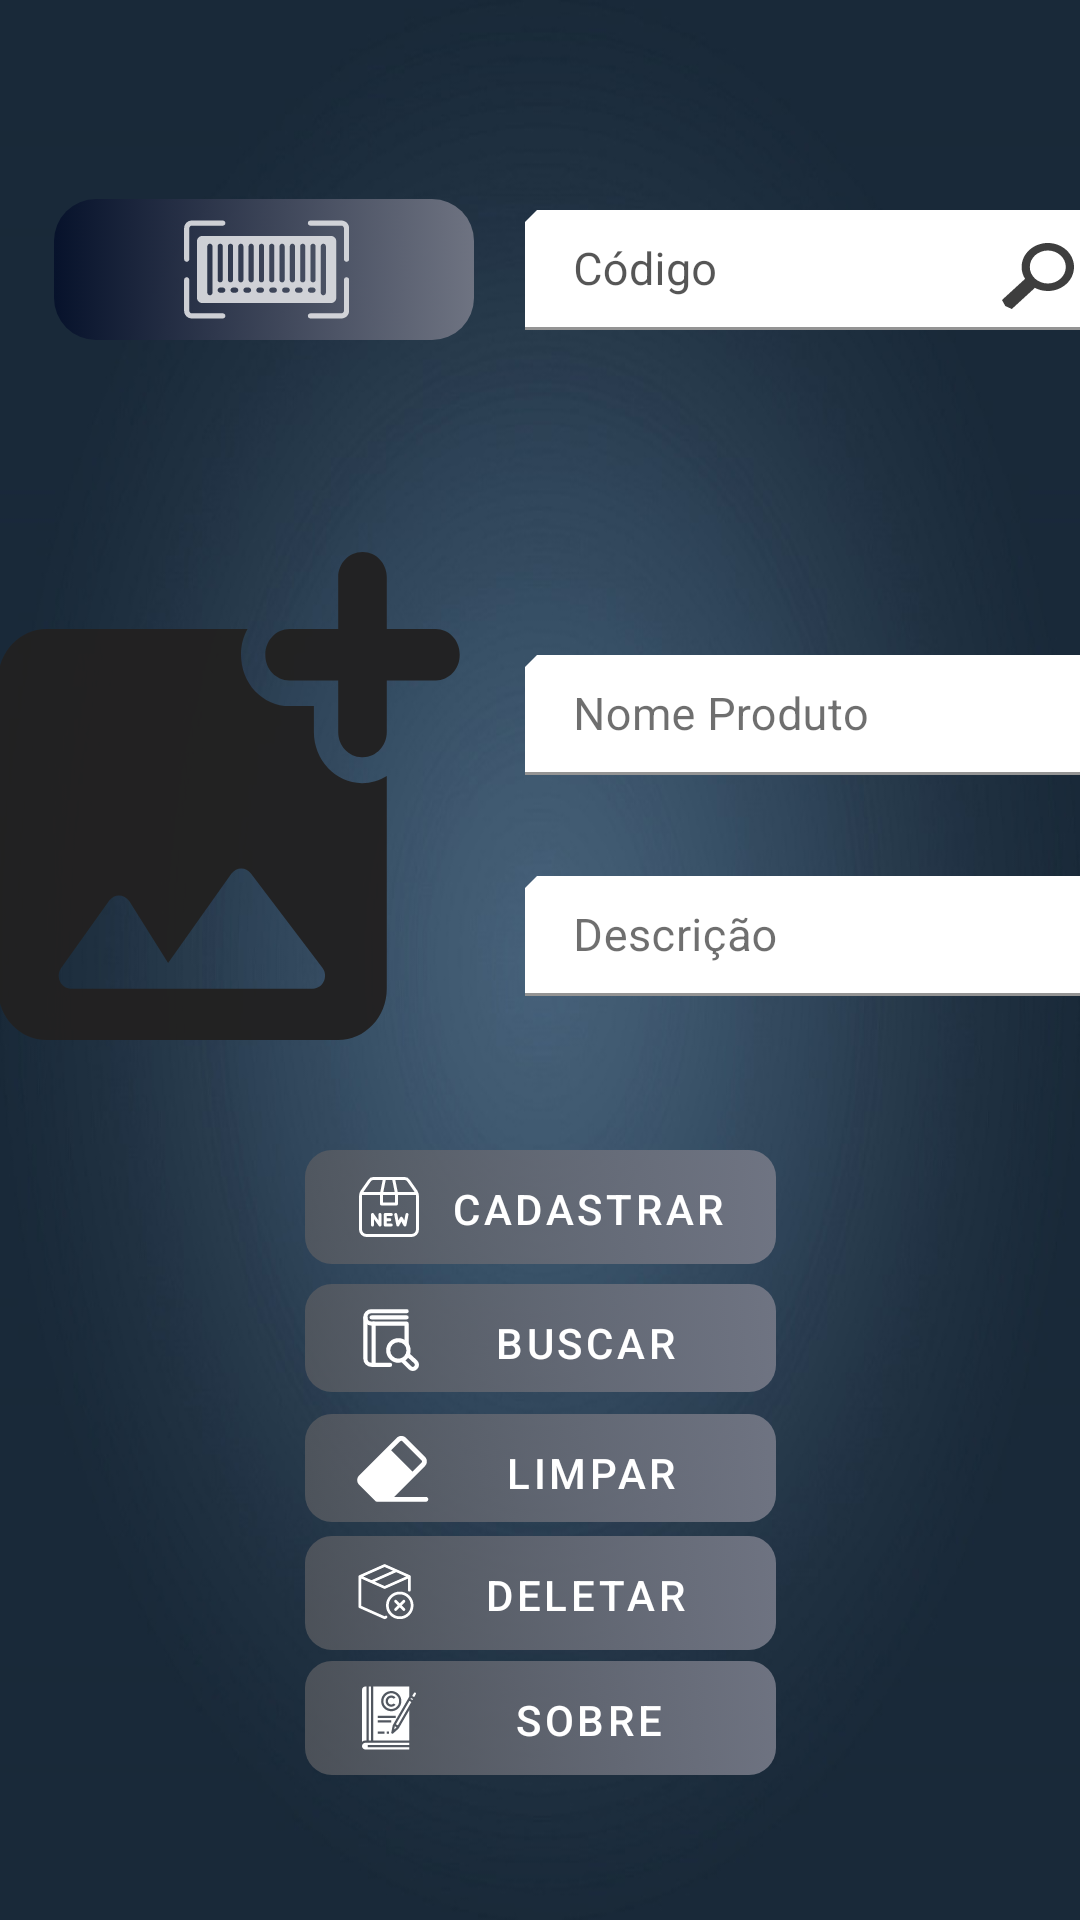

Where to tap for icons on this 1080*1920 app screen, as point (x, y):
botaobusca: point (1038, 276)
